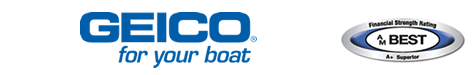geico: (80, 6, 269, 49)
